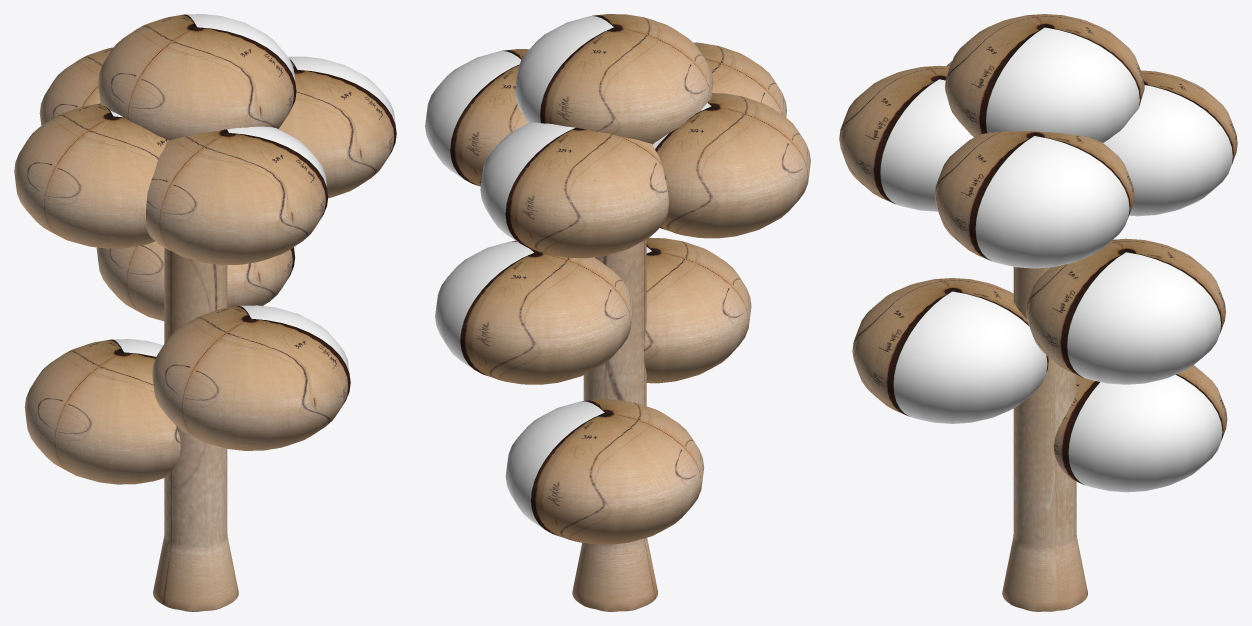
The model's file is big_tree.fbx.
The picture shows the model from 3 angles, left to right: view 1: azimuth 30°, elevation 25°; view 2: azimuth 150°, elevation 25°; view 3: azimuth 270°, elevation 25°; orthographic projection.
Visible parts, largest first — view 1: pSphere2, pSphere4, pSphere8, pSphere1, pSphere7, pCylinder1, pSphere5, pSphere3, pSphere6; view 2: pSphere1, pSphere3, pSphere6, pSphere8, pSphere7, pSphere2, pCylinder1, pSphere5, pSphere4; view 3: pSphere3, pSphere5, pSphere2, pSphere8, pSphere1, pCylinder1, pSphere4, pSphere6.
Part boxes in pixels (x1,y1,x2,y2): pSphere2: [152, 305, 350, 450]; pSphere4: [146, 126, 328, 265]; pSphere8: [98, 14, 296, 140]; pSphere1: [24, 339, 180, 484]; pSphere7: [14, 103, 168, 248]; pCylinder1: [153, 247, 238, 611]; pSphere5: [278, 56, 396, 198]; pSphere3: [96, 241, 295, 321]; pSphere6: [39, 47, 113, 125]; pSphere1: [505, 399, 704, 544]; pSphere3: [435, 240, 633, 384]; pSphere6: [480, 122, 668, 258]; pSphere8: [515, 14, 713, 144]; pSphere7: [653, 93, 810, 238]; pSphere2: [644, 238, 751, 383]; pCylinder1: [572, 239, 657, 611]; pSphere5: [425, 49, 528, 186]; pSphere4: [694, 42, 786, 117]; pSphere3: [1026, 238, 1225, 384]; pSphere5: [934, 131, 1134, 268]; pSphere2: [852, 278, 1048, 423]; pSphere8: [945, 14, 1144, 142]; pSphere1: [1053, 365, 1227, 492]; pCylinder1: [1002, 267, 1087, 611]; pSphere4: [839, 65, 973, 211]; pSphere6: [1103, 70, 1237, 216].
Size of the model in its own units: 10.46 by 15.84 by 10.06.
1 material, 1 textured.
